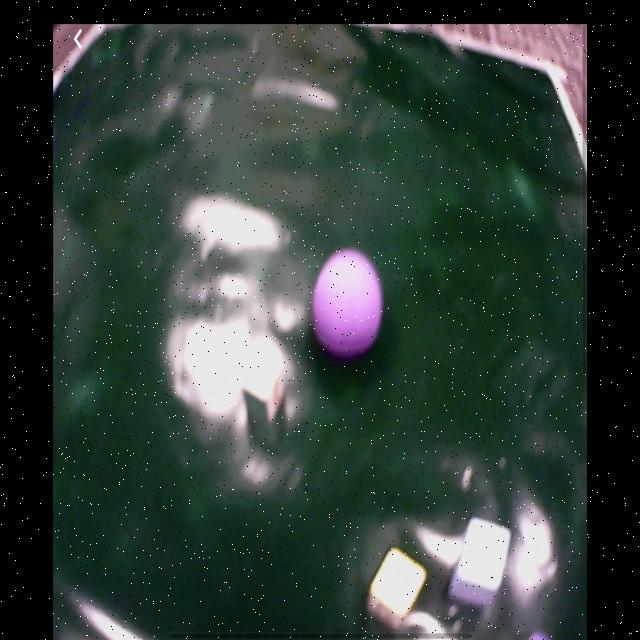ball: (313, 249, 384, 355)
